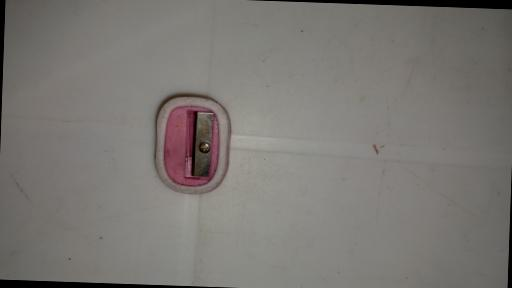Sharpener: (152, 92, 231, 194)
